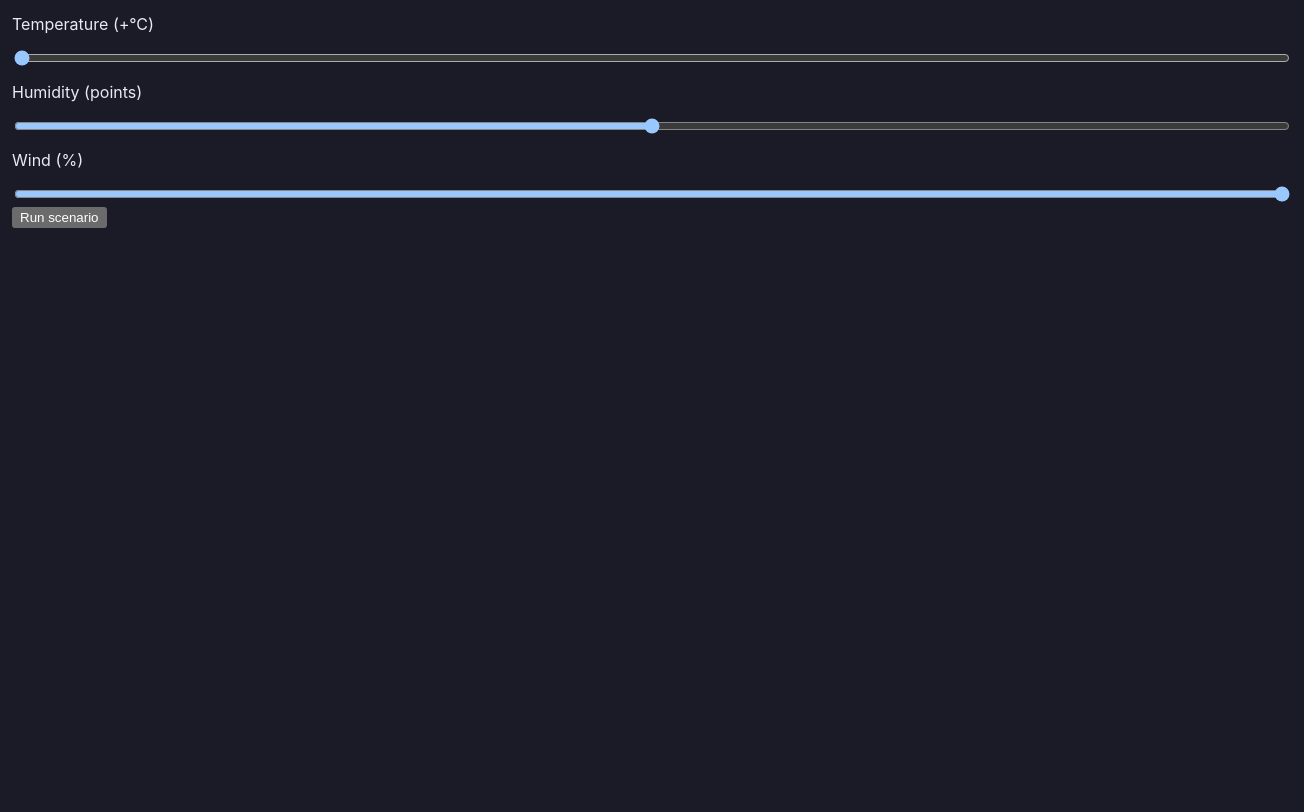
ScenarioPanel › shows observed and simulated side by side, clearly labelled SIMULATED, after the scenario runs
Click the button "Run scenario".
click(59, 218)  # box x1=12 y1=207 x2=106 y2=228
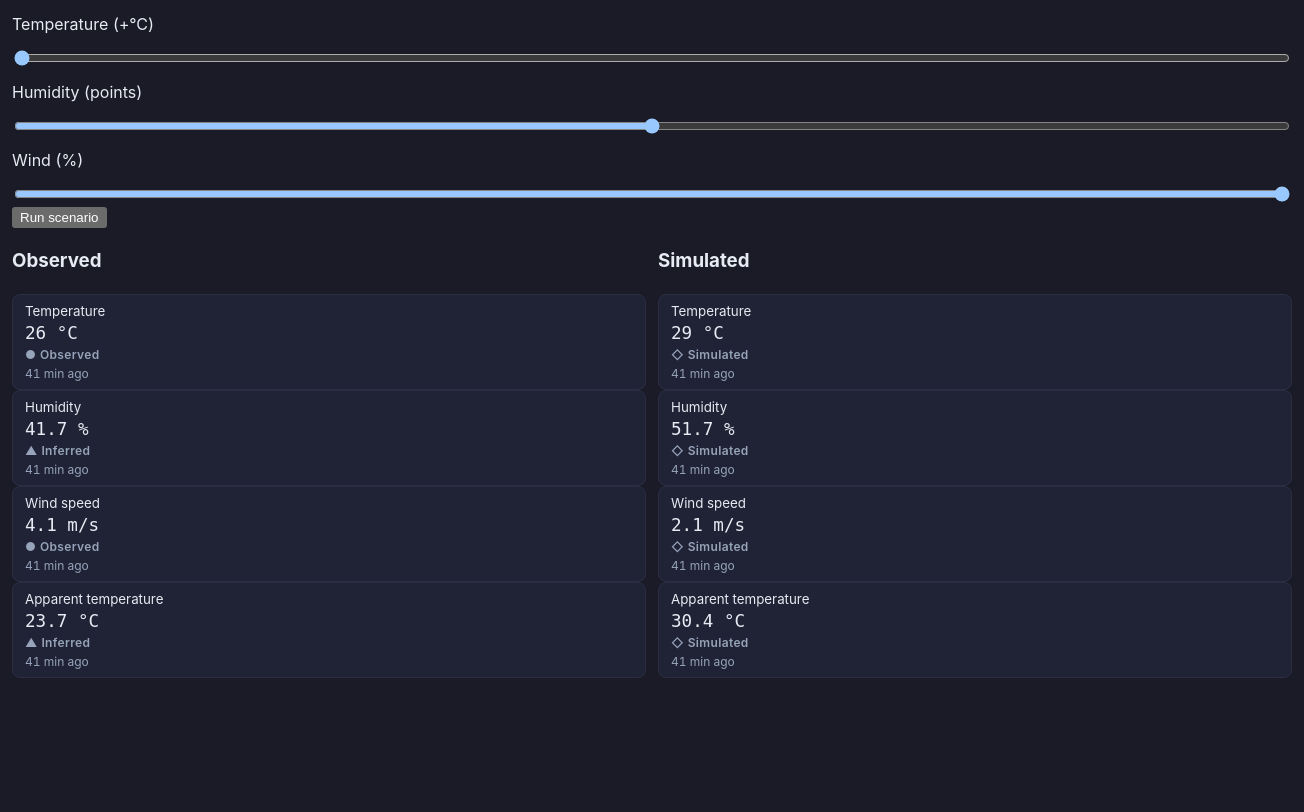
Now the text "26 °C" is shown, box x1=25 y1=322 x2=78 y2=342
Now the text "29 °C" is shown, box x1=671 y1=322 x2=724 y2=342
Now the heading "Simulated" is shown, box x1=658 y1=249 x2=750 y2=272
